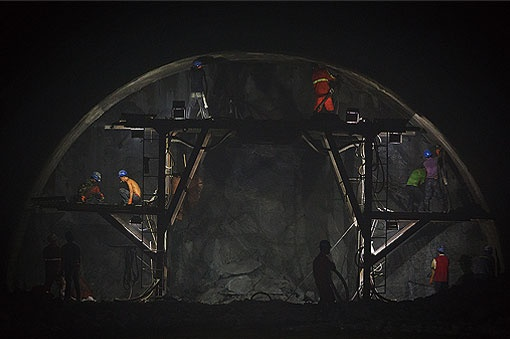blue: (90, 169, 101, 184), (422, 148, 433, 160), (117, 167, 127, 180), (192, 58, 203, 69), (436, 242, 445, 255)
